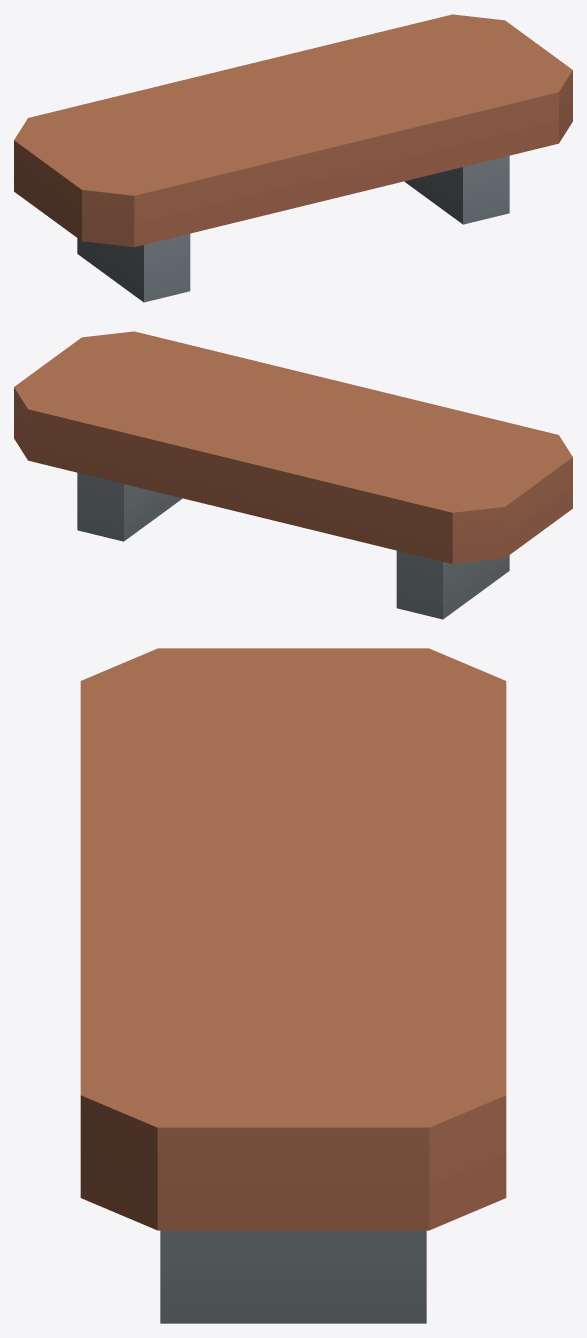
Rendered from bench.glb.
The picture shows the model from 3 angles, top to bottom: view 1: azimuth 30°, elevation 25°; view 2: azimuth 150°, elevation 25°; view 3: azimuth 270°, elevation 25°; orthographic projection. The views are drawn at different scales.
Parts seen in each view (by area): view 1: bench; view 2: bench; view 3: bench.
Part boxes in pixels (box(x1,y1,x2,y2)): bench: box(14, 14, 572, 302); bench: box(14, 331, 572, 619); bench: box(80, 648, 506, 1323).
Size of the model in its own units: 0.4 by 0.1 by 0.15.
1 material, 1 textured.
